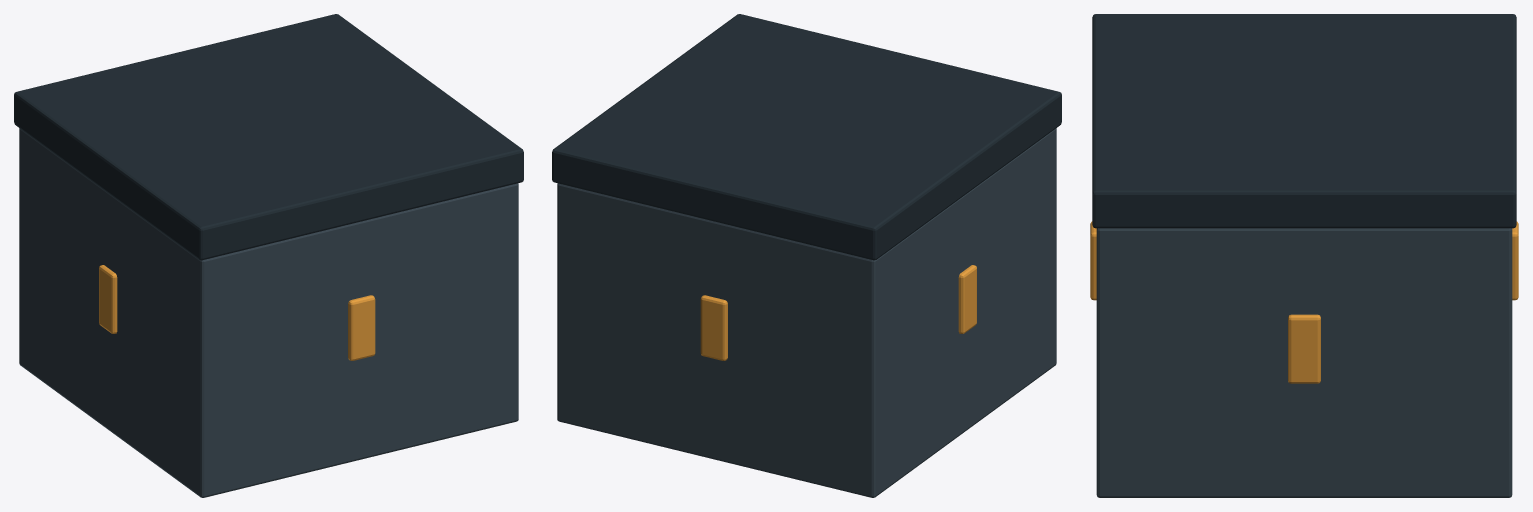
File: CC_S16_P2_Furniture_ReceivingCrate_LOD0.fbx
3 renders of one model, left to right at view 1: azimuth 30°, elevation 25°; view 2: azimuth 150°, elevation 25°; view 3: azimuth 270°, elevation 25°, orthographic. The views are drawn at different scales.
Visible parts, largest first — view 1: CC_S16_P2_Furniture_ReceivingCrate_LOD0_Body, CC_S16_P2_Furniture_ReceivingCrate_LOD0_Lid, CC_S16_P2_Furniture_ReceivingCrate_LOD0_BandY, CC_S16_P2_Furniture_ReceivingCrate_LOD0_BandX; view 2: CC_S16_P2_Furniture_ReceivingCrate_LOD0_Body, CC_S16_P2_Furniture_ReceivingCrate_LOD0_Lid, CC_S16_P2_Furniture_ReceivingCrate_LOD0_BandY, CC_S16_P2_Furniture_ReceivingCrate_LOD0_BandX; view 3: CC_S16_P2_Furniture_ReceivingCrate_LOD0_Body, CC_S16_P2_Furniture_ReceivingCrate_LOD0_Lid, CC_S16_P2_Furniture_ReceivingCrate_LOD0_BandX, CC_S16_P2_Furniture_ReceivingCrate_LOD0_BandY.
Boxes of the visible parts, x1,y1,x2,y2 form: CC_S16_P2_Furniture_ReceivingCrate_LOD0_Body: (19,128,518,497); CC_S16_P2_Furniture_ReceivingCrate_LOD0_Lid: (14,14,523,260); CC_S16_P2_Furniture_ReceivingCrate_LOD0_BandY: (348,295,375,360); CC_S16_P2_Furniture_ReceivingCrate_LOD0_BandX: (99,265,117,333); CC_S16_P2_Furniture_ReceivingCrate_LOD0_Body: (557,128,1056,497); CC_S16_P2_Furniture_ReceivingCrate_LOD0_Lid: (552,14,1061,260); CC_S16_P2_Furniture_ReceivingCrate_LOD0_BandY: (700,295,727,360); CC_S16_P2_Furniture_ReceivingCrate_LOD0_BandX: (958,265,976,333); CC_S16_P2_Furniture_ReceivingCrate_LOD0_Body: (1096,228,1512,497); CC_S16_P2_Furniture_ReceivingCrate_LOD0_Lid: (1092,14,1516,228); CC_S16_P2_Furniture_ReceivingCrate_LOD0_BandX: (1288,314,1320,383); CC_S16_P2_Furniture_ReceivingCrate_LOD0_BandY: (1090,221,1518,300).
Size of what is drawn, in the model's own units: 1.03 by 0.82 by 1.03.
